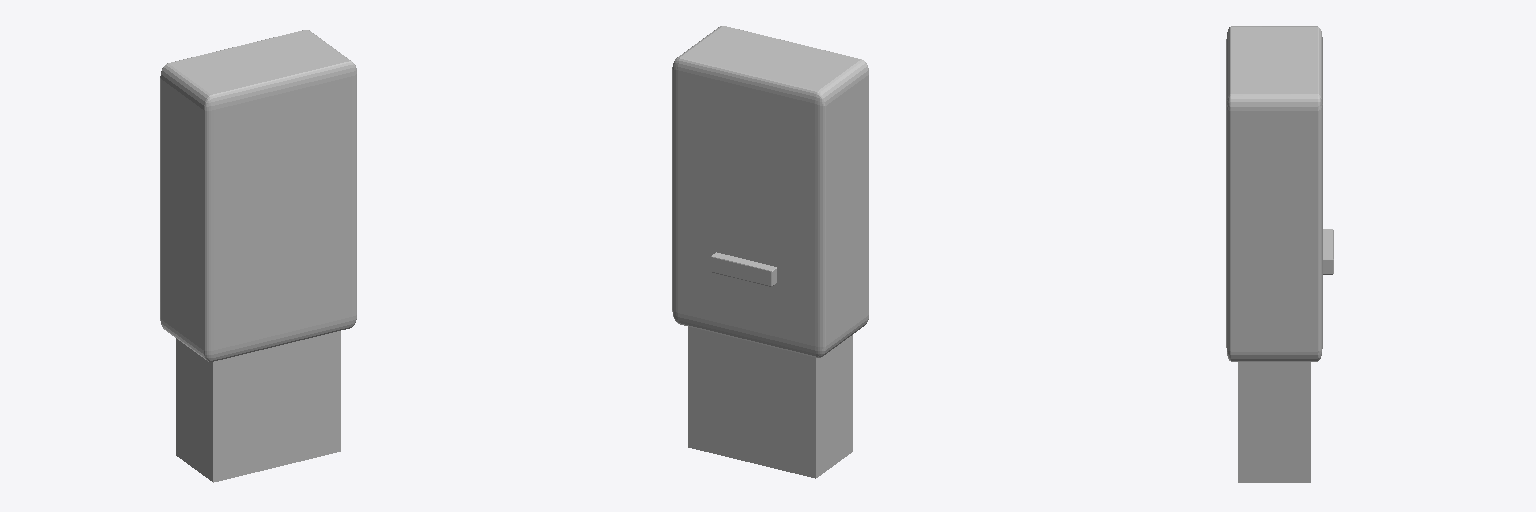
The model's file is USB.obj.
The picture shows the model from 3 angles: view 1: azimuth 30°, elevation 25°; view 2: azimuth 150°, elevation 25°; view 3: azimuth 270°, elevation 25°; orthographic projection.
Parts seen in each view (by area): view 1: Cube.005; view 2: Cube.005; view 3: Cube.005.
Boxes of the visible parts, x1,y1,x2,y2 form: Cube.005: [160, 30, 356, 482]; Cube.005: [672, 26, 868, 478]; Cube.005: [1226, 26, 1333, 482].
Size of the model in its own units: 1.2 by 2.93 by 0.7264.